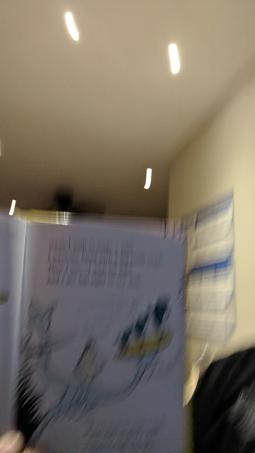text block: (39, 232, 169, 292)
